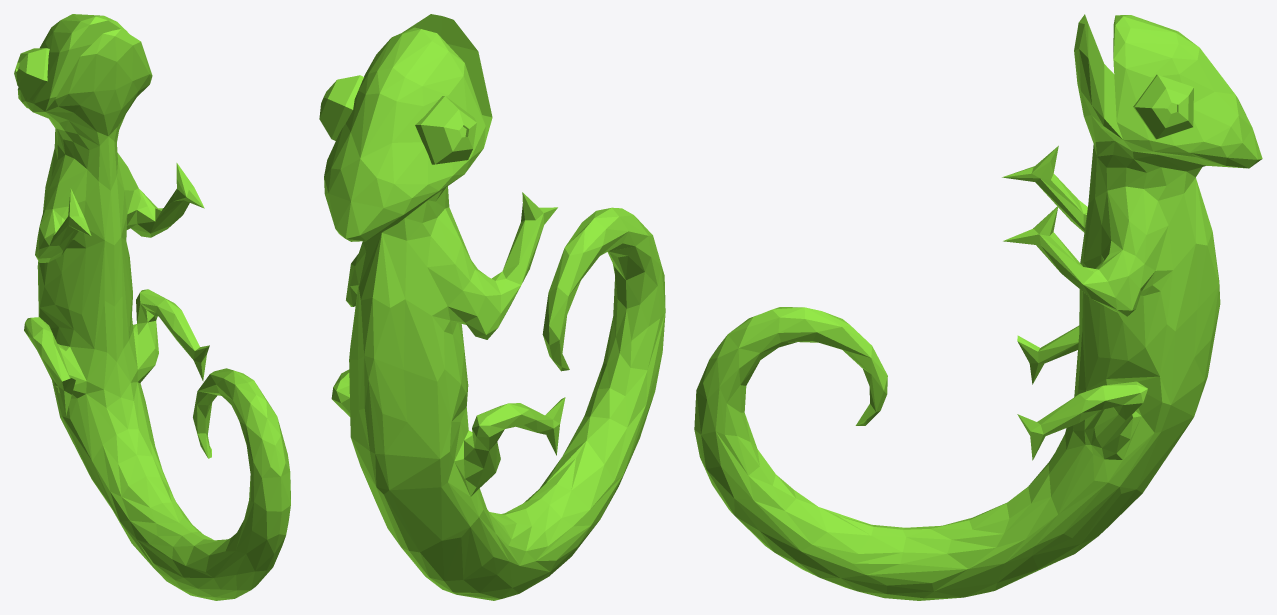
Rendered from Chameleon 1.fbx.
3 renders of one model, left to right at view 1: azimuth 30°, elevation 25°; view 2: azimuth 150°, elevation 25°; view 3: azimuth 270°, elevation 25°, orthographic. The views are drawn at different scales.
Parts seen in each view (by area): view 1: lizard; view 2: lizard; view 3: lizard.
Part boxes in pixels (x1=…): lizard: x1=14, y1=14, x2=290, y2=600; lizard: x1=319, y1=14, x2=665, y2=600; lizard: x1=694, y1=14, x2=1262, y2=600.
Bounding box in the file's own units: 2022 × 6681 × 5909.
